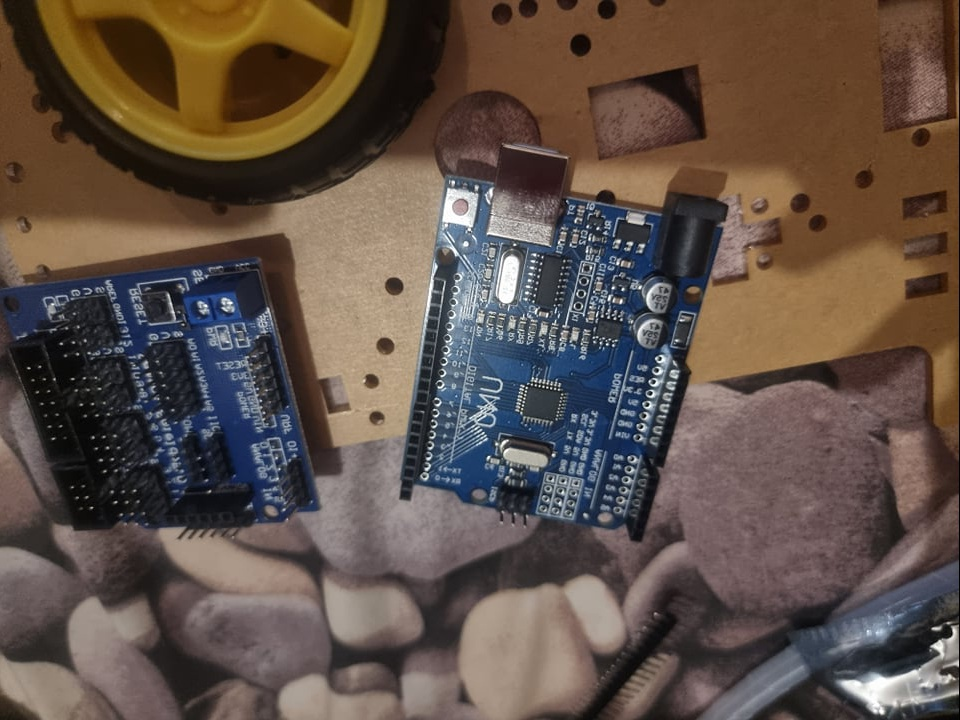5V EXPANSION: (2, 257, 323, 535)
UNO R3: (401, 121, 732, 543)
